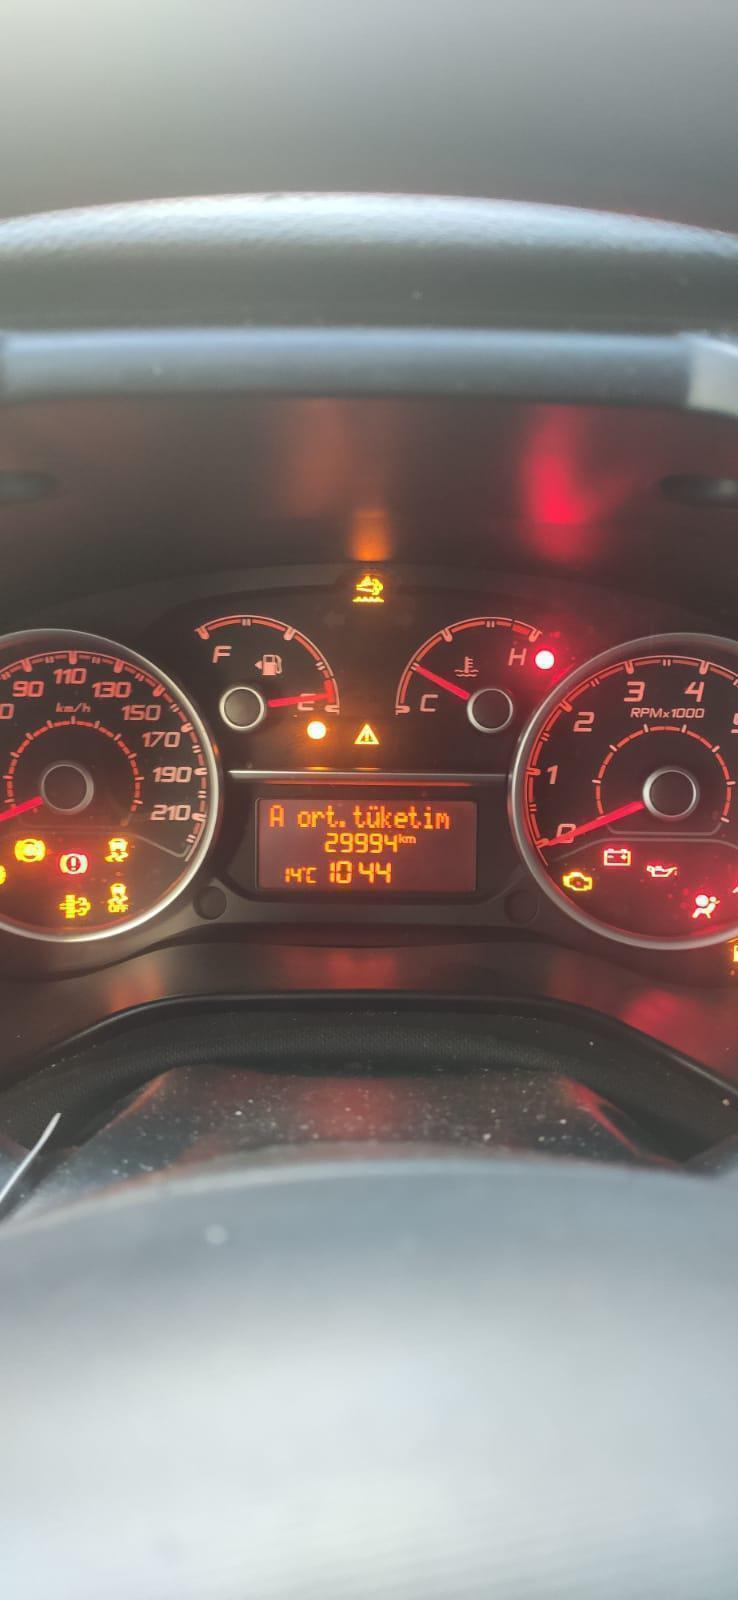,: (338, 819, 347, 828)
0: (336, 859, 352, 884)
1: (329, 860, 335, 884), (284, 866, 291, 884)
2: (324, 831, 338, 853)
4: (358, 861, 375, 884), (375, 861, 391, 884), (384, 832, 398, 853), (291, 867, 302, 883)
9: (368, 832, 383, 854), (354, 832, 368, 853), (339, 832, 353, 853)
X: (352, 803, 366, 829), (324, 803, 338, 828), (408, 804, 422, 830), (366, 804, 381, 828), (270, 804, 285, 827), (381, 804, 393, 828), (434, 811, 450, 829), (296, 810, 311, 827), (394, 810, 407, 829), (305, 865, 317, 884), (423, 805, 432, 829), (311, 810, 324, 827), (405, 834, 417, 844), (398, 832, 407, 844)
odometer: (254, 795, 479, 895)
